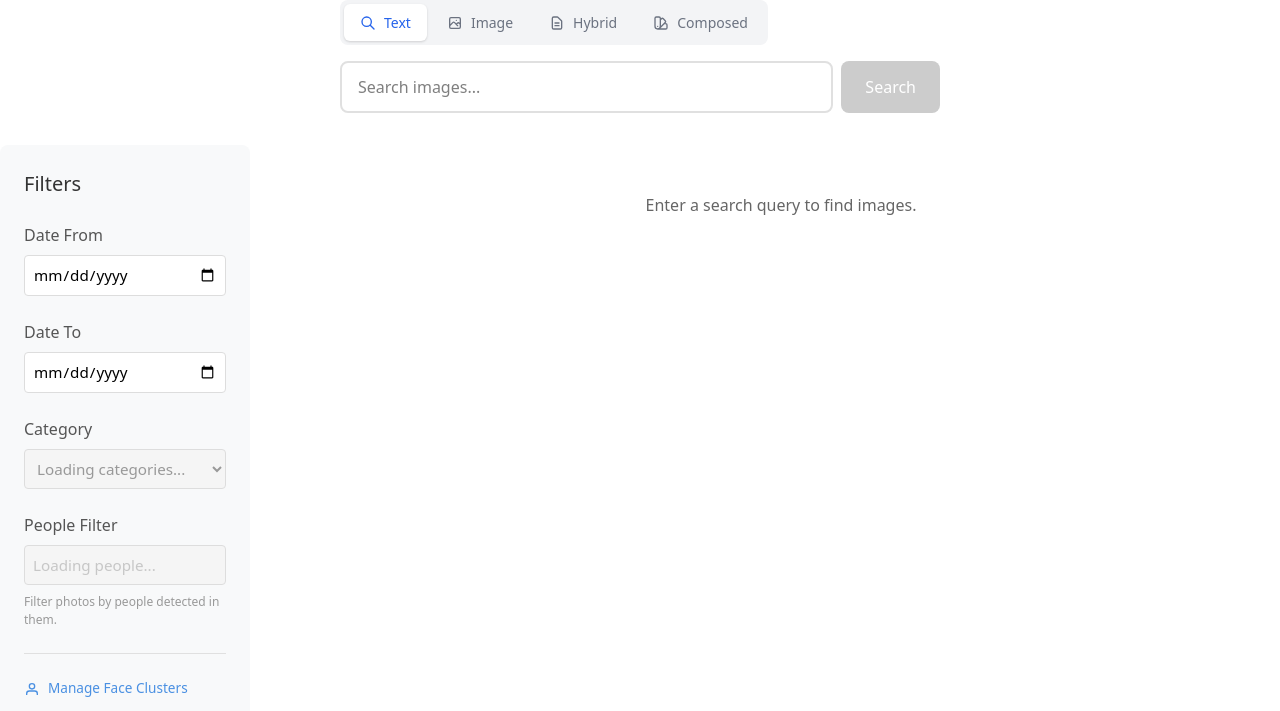
Test case: Dashboard Page › renders search results when API returns data
Type "beach" into the field named "search query" at (587, 87), box 340,61 -> 833,113
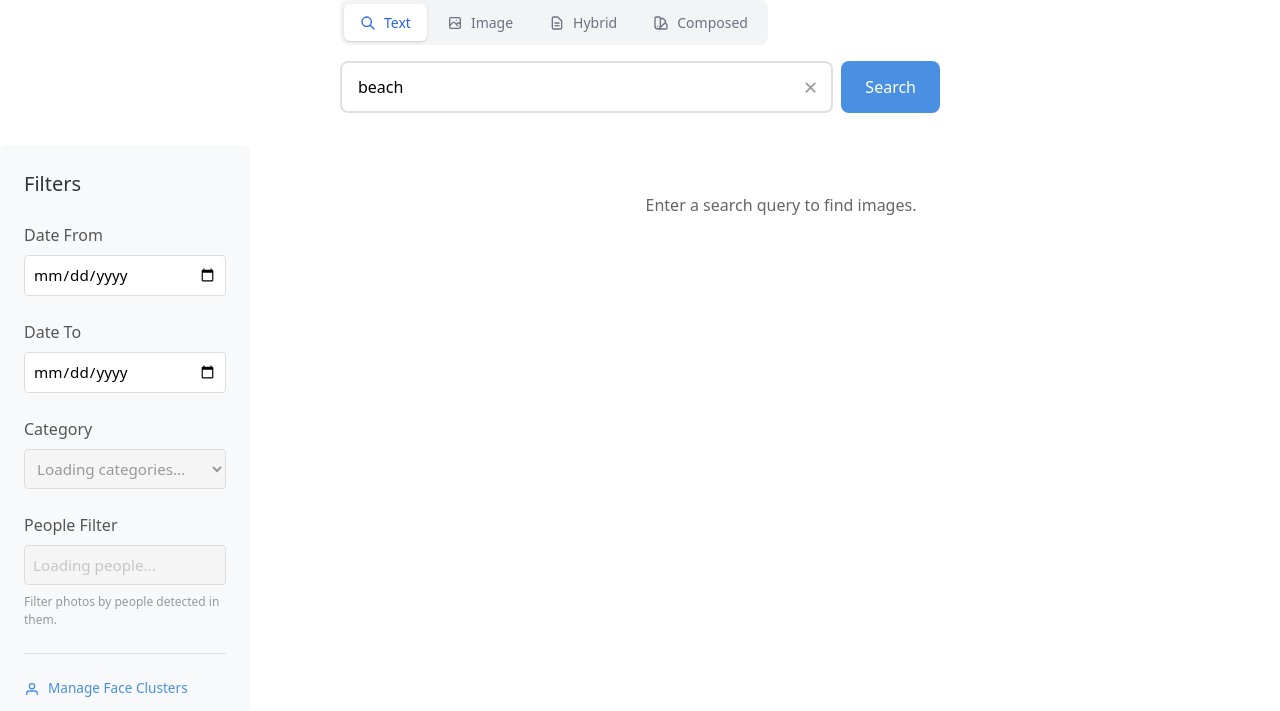
Submit the form named "search query", box 340,61 -> 940,113
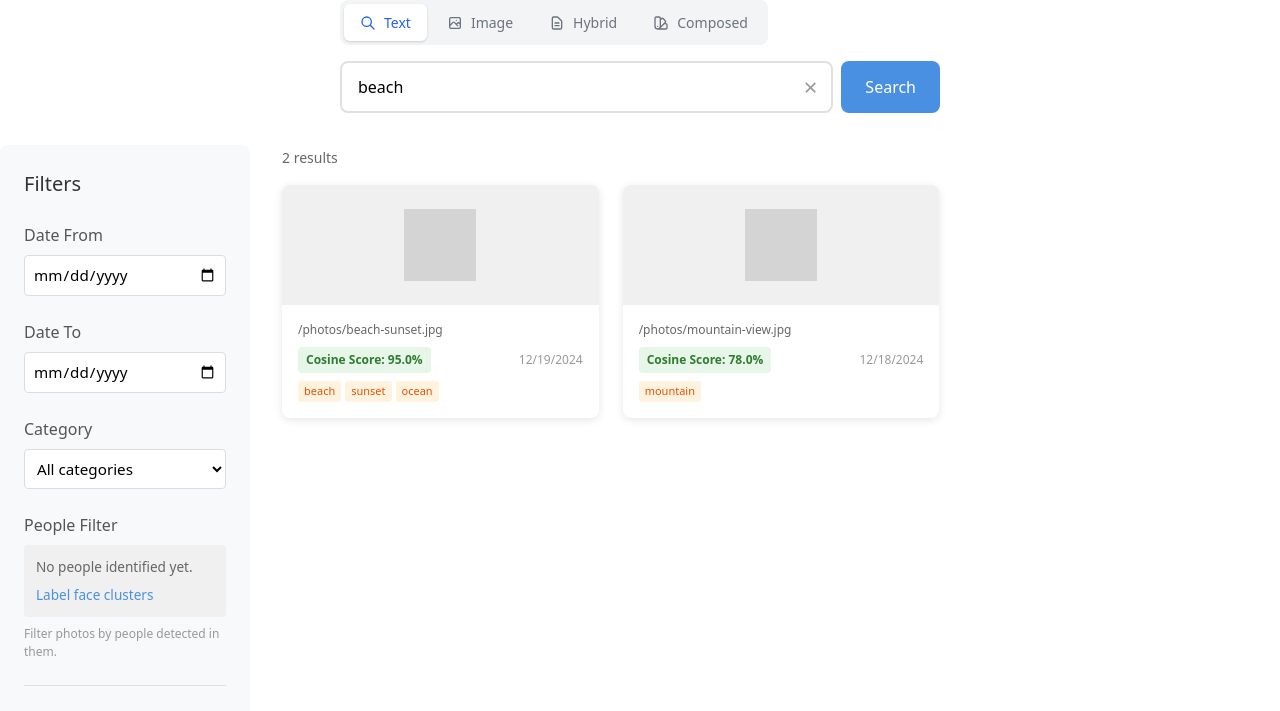
Check: the text "2 results" is shown, box 282,148 -> 338,167
Check: the text "/photos/beach-sunset.jpg" is shown, box 298,321 -> 443,338
Check: the text "Cosine Score: 95.0%" is shown, box 298,347 -> 431,373
